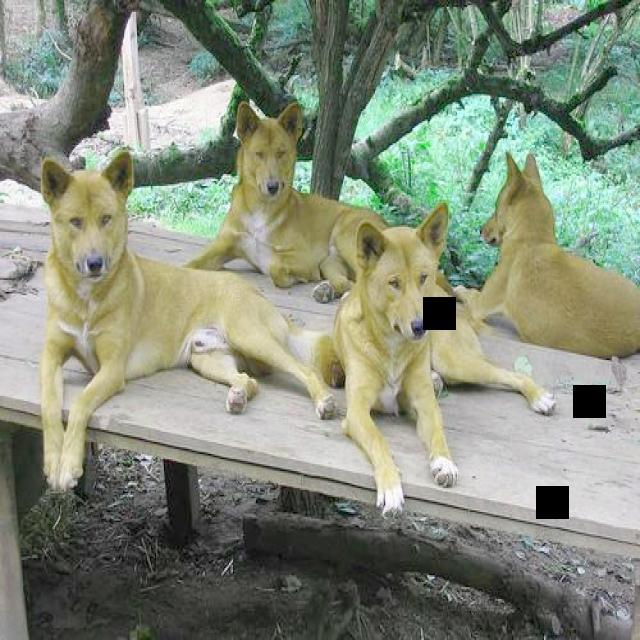adult_dog: (39, 146, 352, 493), (313, 203, 556, 515), (431, 153, 640, 359), (182, 99, 388, 303)
